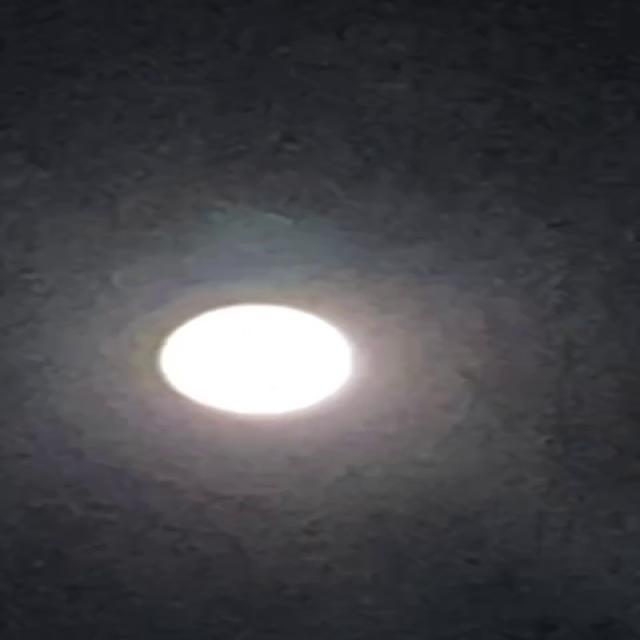moon: (125, 299, 363, 443)
